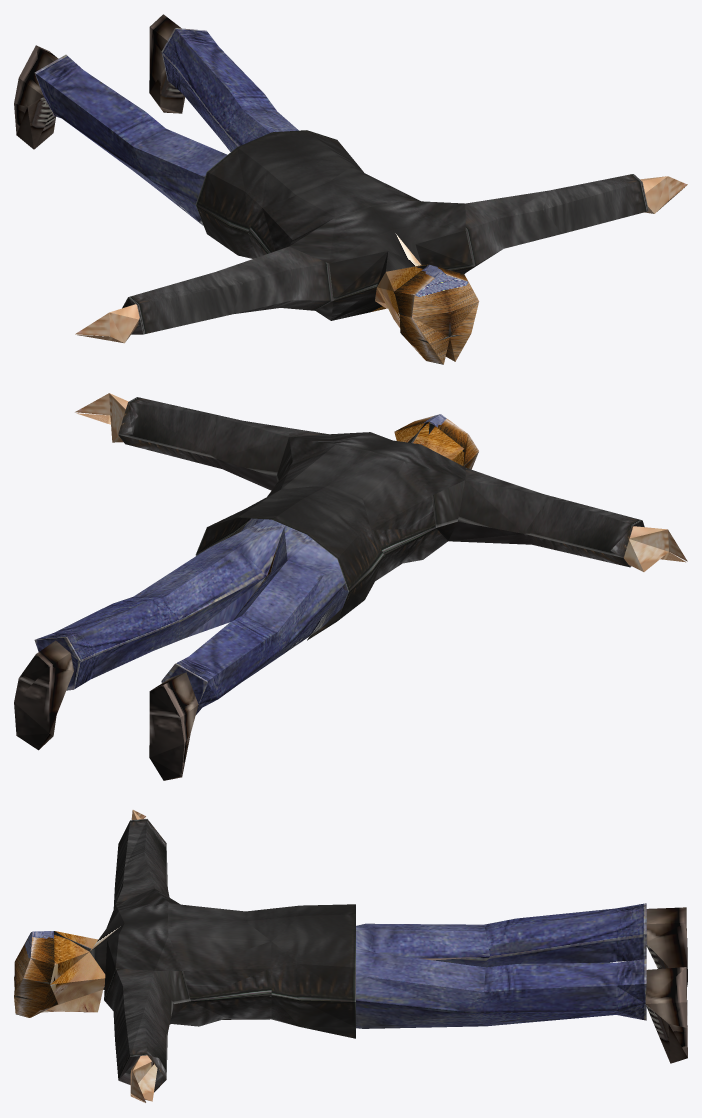
The model's file is thug_melvinlow_wtf.obj.
3 renders of one model, top to bottom at view 1: azimuth 30°, elevation 25°; view 2: azimuth 150°, elevation 25°; view 3: azimuth 270°, elevation 25°, orthographic. The views are drawn at different scales.
Parts seen in each view (by area): view 1: group1; view 2: group1; view 3: group1.
Part boxes in pixels (x1=…): group1: x1=14, y1=14, x2=687, y2=364; group1: x1=14, y1=393, x2=687, y2=780; group1: x1=14, y1=810, x2=687, y2=1102.
Size of the model in its own units: 660 by 124 by 655.
